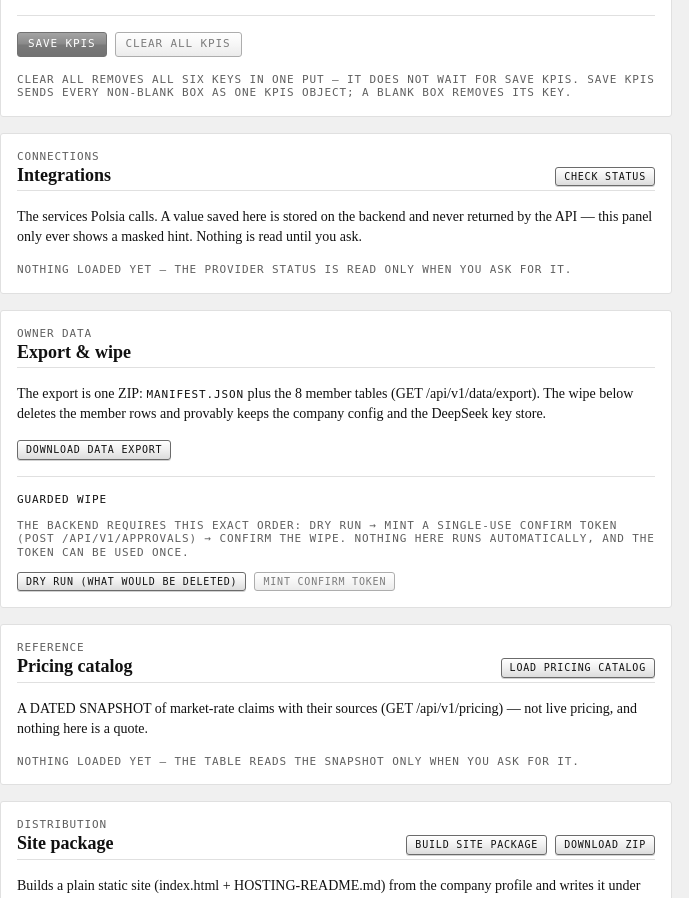
Scenario: u11 settings — data export & wipe › a refused export renders the named refusal — never a dead button
(page scrolled)
What coordinates should you click on to do the following:
click the button with test id "settings-data-export"
I would click on:
 (94, 450)
Its box is [17,440,171,460].
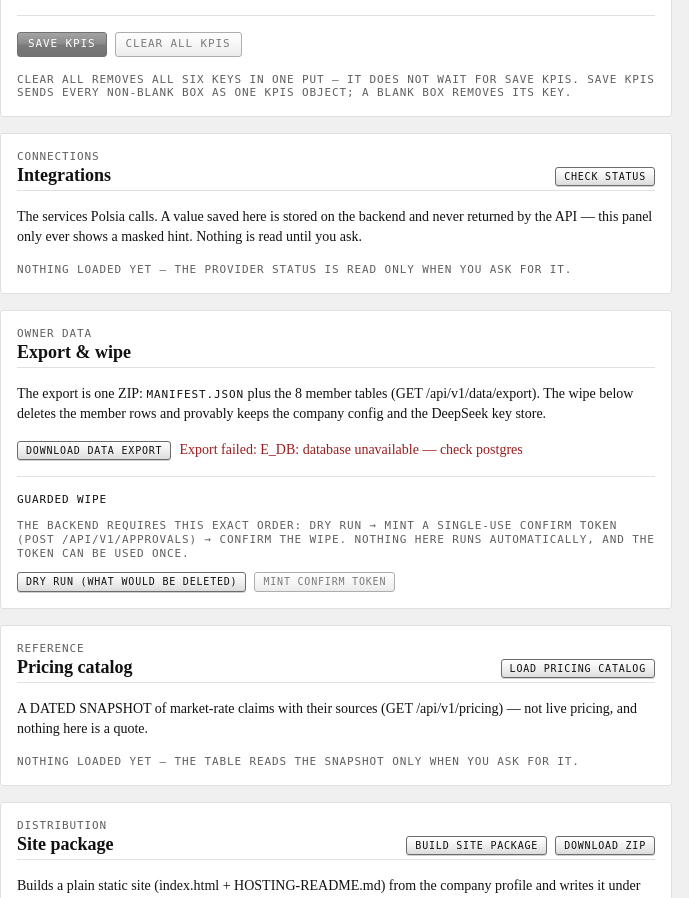
Check: the message with test id "settings-data-export-error" shows "E_DB", box [260,442,523,457]
Check: the message with test id "settings-data-export-error" shows "check postgres", box [260,442,523,457]
